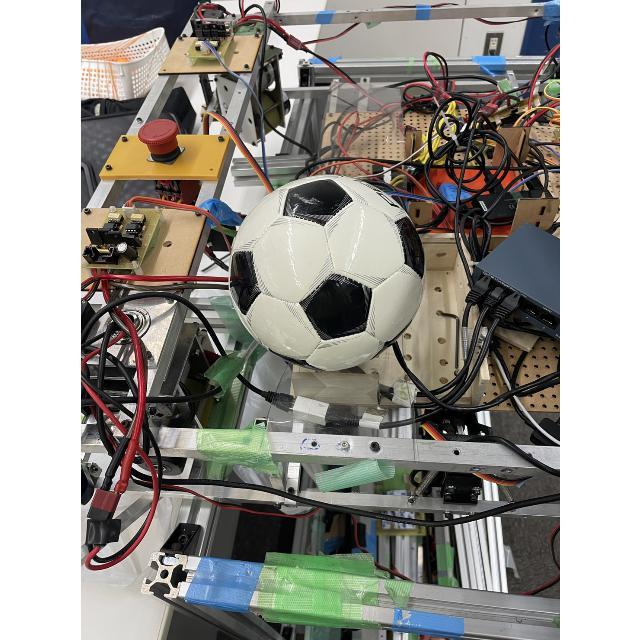ball: (230, 176, 420, 374)
